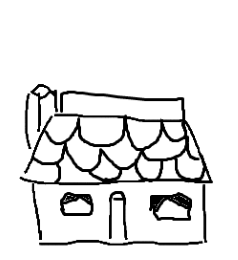bottom_placed_house: (2, 1, 238, 260)
chimney: (6, 75, 62, 149)
door: (106, 174, 138, 249)
open_window: (145, 189, 199, 224), (54, 188, 97, 222)
roof: (12, 74, 230, 188)
wall: (28, 172, 215, 253)
